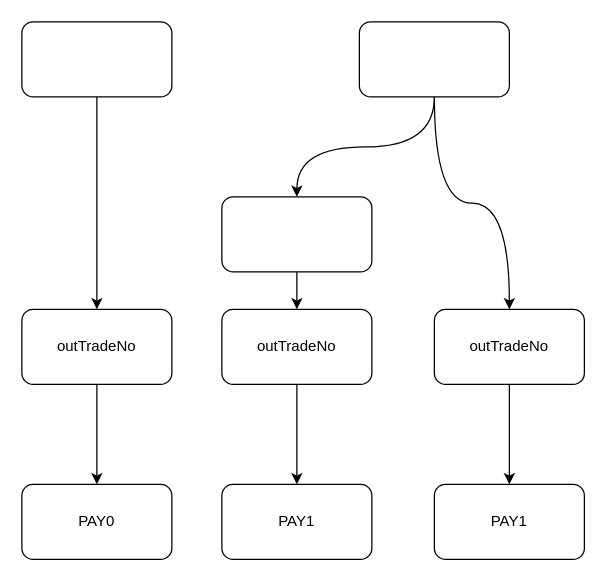
The diagram is 606 pixels wide and 581 high, and some of its shapes have lost their labels. Here are the shapes that lost their labels. From the top down, the centre of each, then its label:
At (96,59): "user".
At (433,59): "regiment".
At (296,234): "time_limit".
